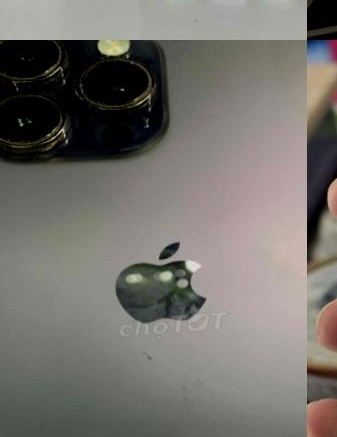scratch: (64, 49, 170, 119), (0, 83, 77, 168), (0, 40, 71, 93)
